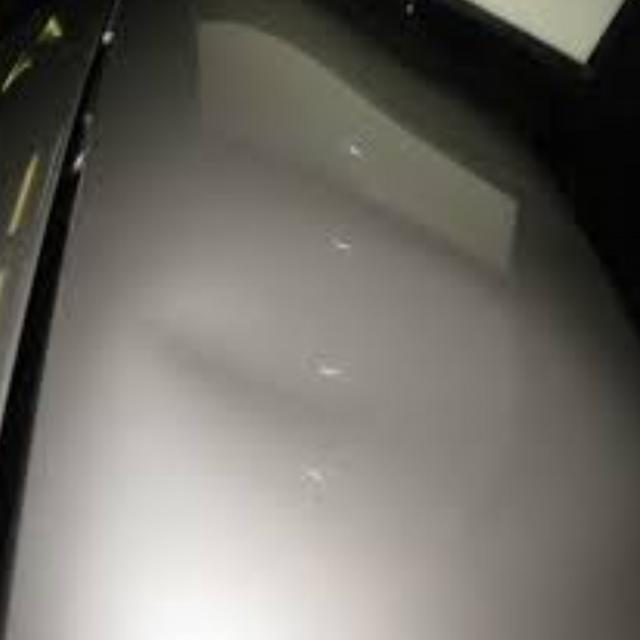dents: (139, 272, 355, 464)
